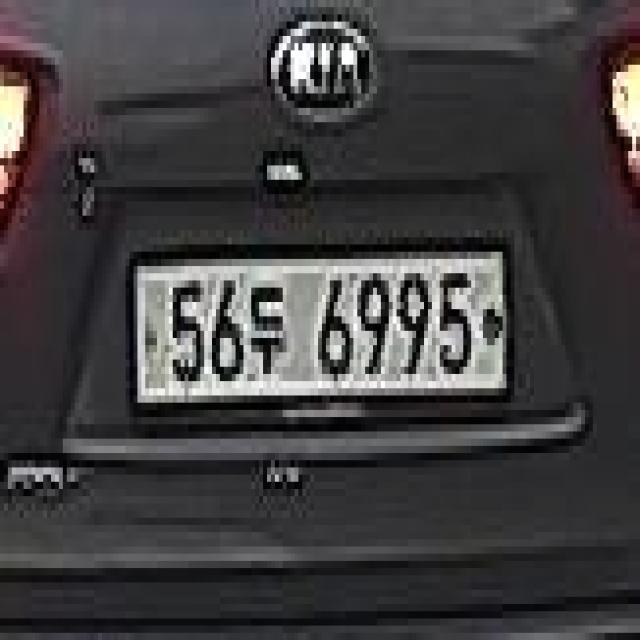illegal_plate: (127, 239, 516, 424)
